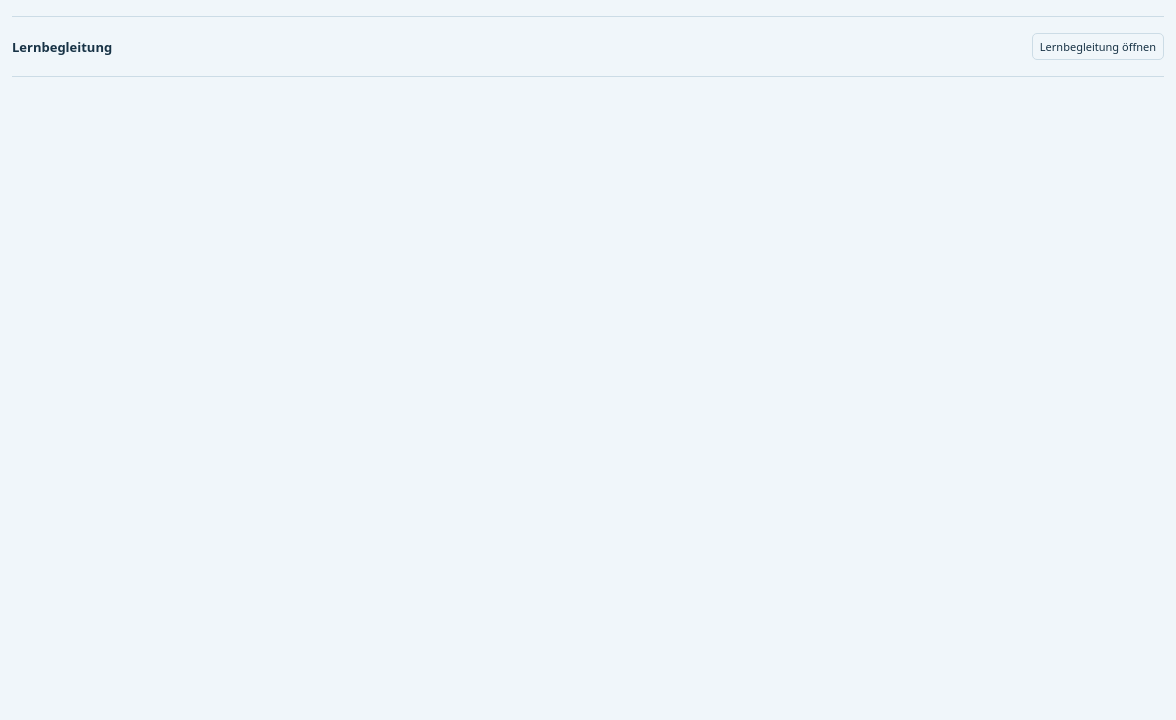
it: remembers collapsing the guide and lets the user reopen it
The width and height of the screenshot is (1176, 720).
Earlier steps of the test are not shown.
Expected: the heading "1. Was soll das Netz lernen?" is not shown
Step 1. Click the button "Lernbegleitung öffnen" → (1098, 46), box [1032,33,1164,60]
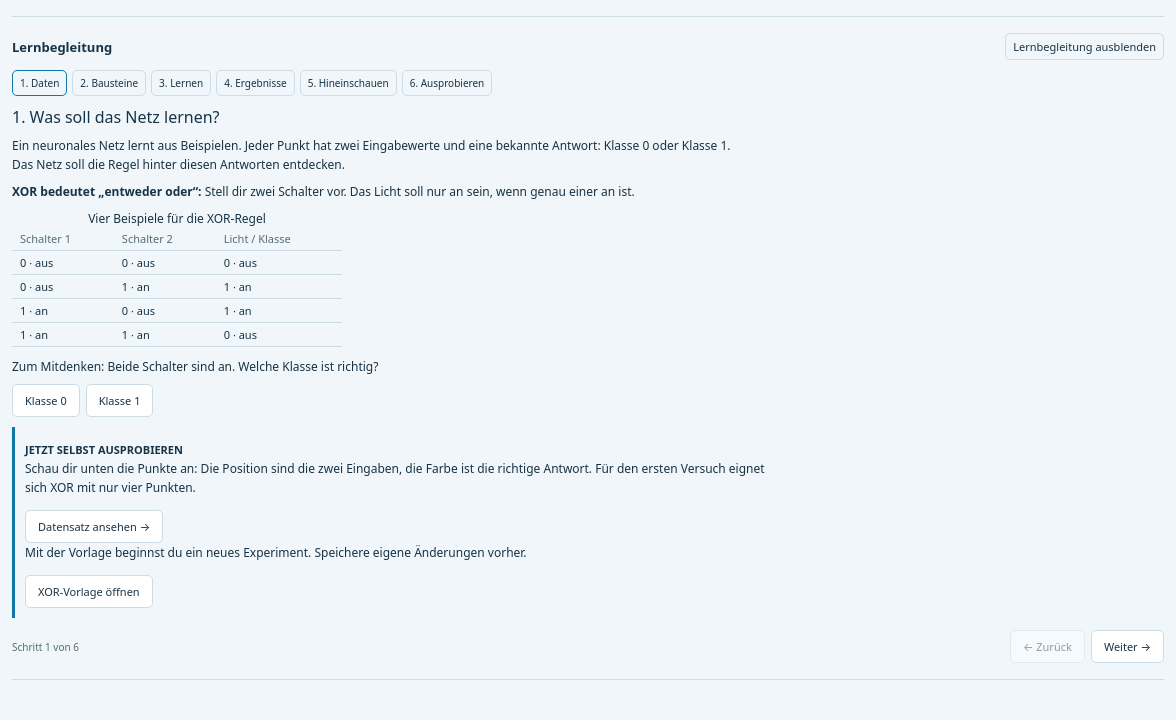
Now the heading "1. Was soll das Netz lernen?" is shown, box [12,106,220,128]
